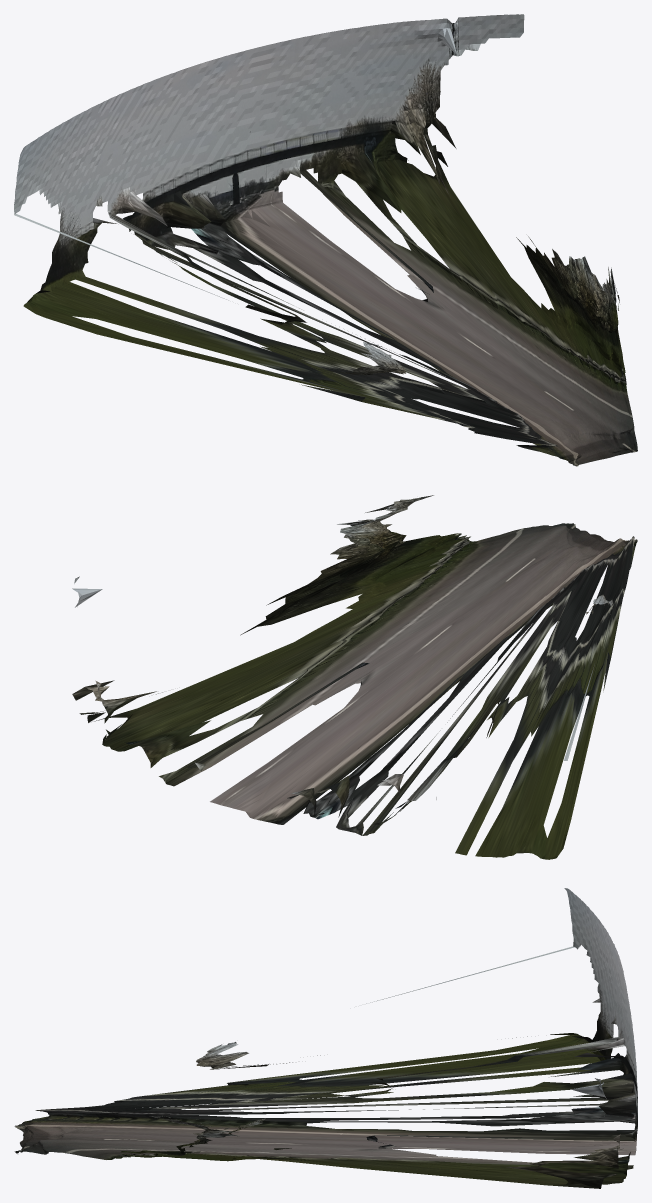
3 views of the same model, one above another, from view 1: azimuth 30°, elevation 25°; view 2: azimuth 150°, elevation 25°; view 3: azimuth 270°, elevation 25° (orthographic). The views are drawn at different scales.
Visible parts, largest first — view 1: defaultobject; view 2: defaultobject; view 3: defaultobject.
Part boxes in pixels (left/top/right/bottom): defaultobject: left=14, top=14, right=637, bottom=466; defaultobject: left=72, top=495, right=637, bottom=859; defaultobject: left=14, top=888, right=637, bottom=1188.
Bounding box in the file's own units: 38 × 12.52 × 44.76.
Materials: 1 (1 with a texture image).
